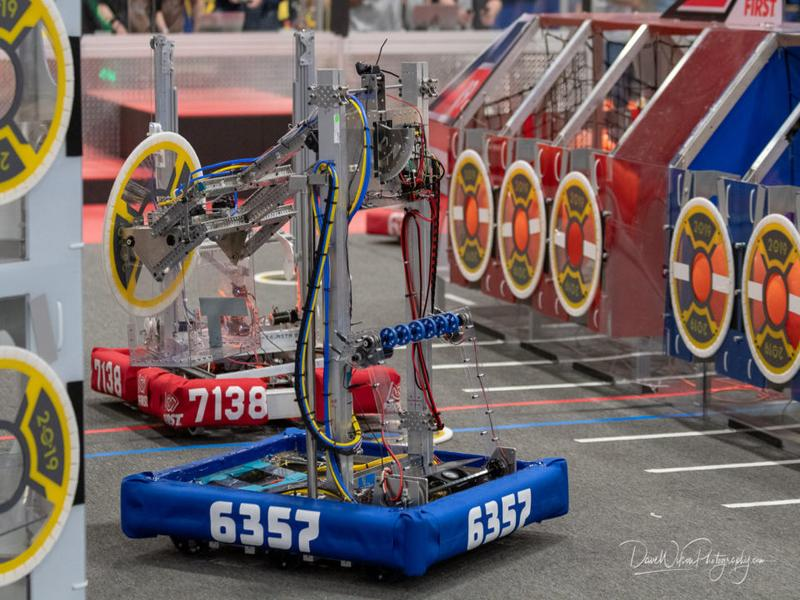robot: (122, 52, 572, 574), (96, 25, 393, 425)
